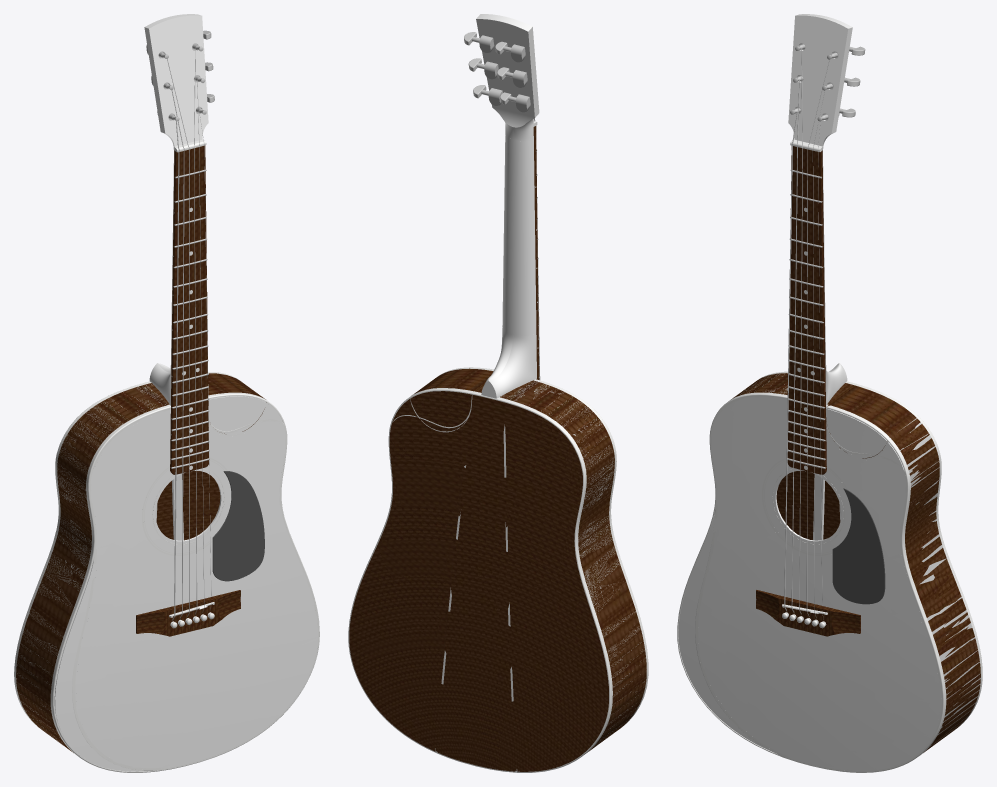
File: luth-acoustic-dreadnaught-transformed.glb
The picture shows the model from 3 angles, left to right: view 1: azimuth 30°, elevation 25°; view 2: azimuth 150°, elevation 25°; view 3: azimuth 330°, elevation 25°; orthographic projection.
Parts seen in each view (by area): view 1: Body_Soundboard_Arm_Bevel_Cutaway_Venetian, Body_Soundboard_Arm_Bevel, Body_Fretboard, Body_Soundboard_Venetian_Cutaway, Body_Sides, Body_Sides_Arm_Bevel, Body_Soundboard, Body_Headstock, Body_Soundboard_Florentine_Cutaway, Body_Soundboard_Arm_Bevel_Cutaway_Florentine, Body_Pickguard, Body_Bridge (+18 smaller); view 2: Body_Back, Body_Back_3Piece_Left, Body_Back_Venetian_Cutaway, Body_Back_3Piece_Right, Body_Back_Florentine_Cutaway, Body_Sides, Body_Sides_Arm_Bevel, Body_Back_3Piece_Venetian_Cutaway_Right, Surface_Neck_Profile, Body_Back_2Piece_Left, Body_Headstock, Body_Back_3Piece_Florentine_Cutaway_Left (+13 smaller); view 3: Body_Soundboard_Arm_Bevel_Cutaway_Venetian, Body_Soundboard_Arm_Bevel, Body_Fretboard, Body_Soundboard_Venetian_Cutaway, Body_Soundboard, Body_Headstock, Body_Soundboard_Florentine_Cutaway, Body_Soundboard_Arm_Bevel_Cutaway_Florentine, Body_Pickguard, Body_Sides_Scalloped_Cutaway, Body_Sides_Arm_Bevel, Body_Sides (+24 smaller).
Part boxes in pixels (x1,y1,x2,y2): Body_Soundboard_Arm_Bevel_Cutaway_Venetian: (76, 410, 316, 767); Body_Soundboard_Arm_Bevel: (75, 395, 318, 768); Body_Fretboard: (170, 145, 208, 474); Body_Soundboard_Venetian_Cutaway: (54, 420, 317, 771); Body_Sides: (16, 375, 262, 752); Body_Sides_Arm_Bevel: (16, 375, 257, 748); Body_Soundboard: (54, 395, 317, 771); Body_Headstock: (144, 14, 208, 162); Body_Soundboard_Florentine_Cutaway: (55, 405, 318, 771); Body_Soundboard_Arm_Bevel_Cutaway_Florentine: (75, 404, 318, 760); Body_Pickguard: (212, 471, 264, 581); Body_Bridge: (136, 590, 240, 636); Body_Back: (350, 392, 608, 771); Body_Back_3Piece_Left: (505, 414, 608, 771); Body_Back_Venetian_Cutaway: (350, 397, 607, 768); Body_Back_3Piece_Right: (349, 391, 471, 746); Body_Back_Florentine_Cutaway: (350, 399, 607, 770); Body_Sides: (427, 368, 646, 750); Body_Sides_Arm_Bevel: (428, 370, 646, 749); Body_Back_3Piece_Venetian_Cutaway_Right: (353, 416, 466, 751); Surface_Neck_Profile: (502, 135, 536, 335); Body_Back_2Piece_Left: (477, 398, 608, 771); Body_Headstock: (476, 14, 539, 141); Body_Back_3Piece_Florentine_Cutaway_Left: (514, 440, 608, 771); Body_Soundboard_Arm_Bevel_Cutaway_Venetian: (699, 398, 940, 769); Body_Soundboard_Arm_Bevel: (698, 396, 941, 770); Body_Fretboard: (787, 146, 826, 474); Body_Soundboard_Venetian_Cutaway: (678, 397, 941, 770); Body_Soundboard: (678, 396, 941, 768); Body_Headstock: (788, 14, 852, 162); Body_Soundboard_Florentine_Cutaway: (712, 397, 941, 770); Body_Soundboard_Arm_Bevel_Cutaway_Florentine: (698, 435, 941, 770); Body_Pickguard: (832, 488, 885, 604); Body_Sides_Scalloped_Cutaway: (742, 374, 979, 739); Body_Sides_Arm_Bevel: (734, 373, 980, 752); Body_Sides: (732, 373, 980, 746).
Bounding box in the file's own units: 0.3917 × 1.04 × 0.1269.
Materials: 35 (31 with a texture image).
